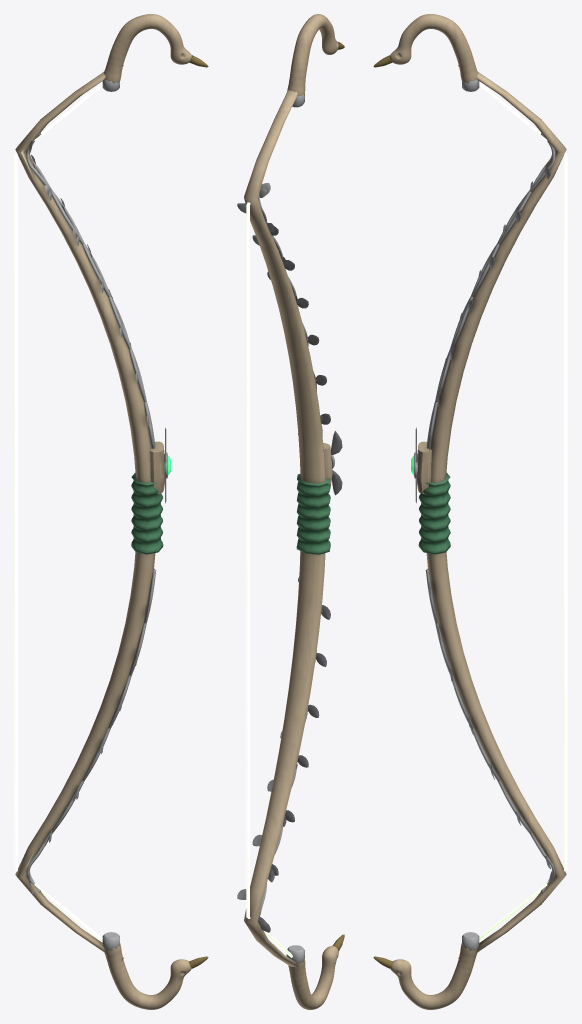
Rendered from named-oathbow.glb.
3 views of the same model, side by side, from view 1: azimuth 90°, elevation 25°; view 2: azimuth 150°, elevation 25°; view 3: azimuth 270°, elevation 25° (orthographic).
Parts seen in each view (by area): view 1: named-oathbow; view 2: named-oathbow; view 3: named-oathbow.
Part boxes in pixels (x1,y1,x2,y2): named-oathbow: (14,14,208,1009); named-oathbow: (237,14,344,1009); named-oathbow: (373,14,567,1009).
Size of the model in its own units: 0.1772 by 4.28 by 0.7584.
1 material, 1 textured.
